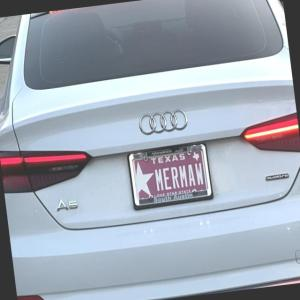Plate: (126, 142, 214, 210)
